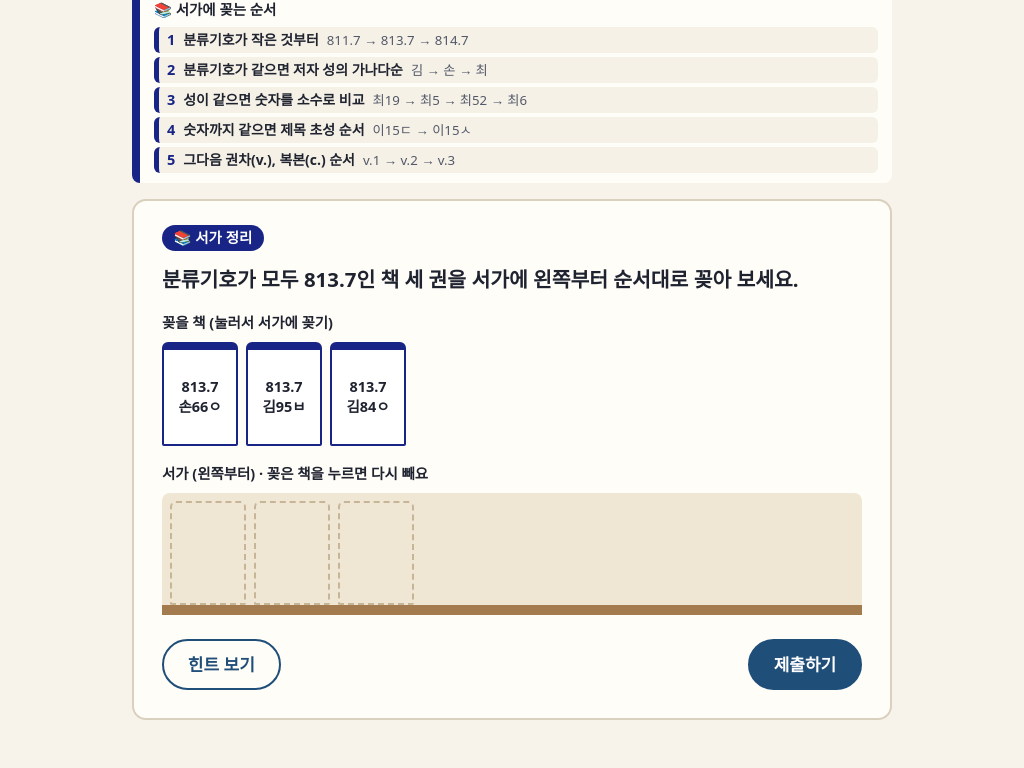
Scenario: 게임 4단계: 책 주소 완성하기 › 서가 정리에서 틀리면 내 순서와 정답 순서를 화살표로 보여 준다
This screenshot has width=1024, height=768.
(page scrolled)
Click the button named "813.7 손66ㅇ 꽂기".
click(200, 394)  # box [162, 342, 238, 446]
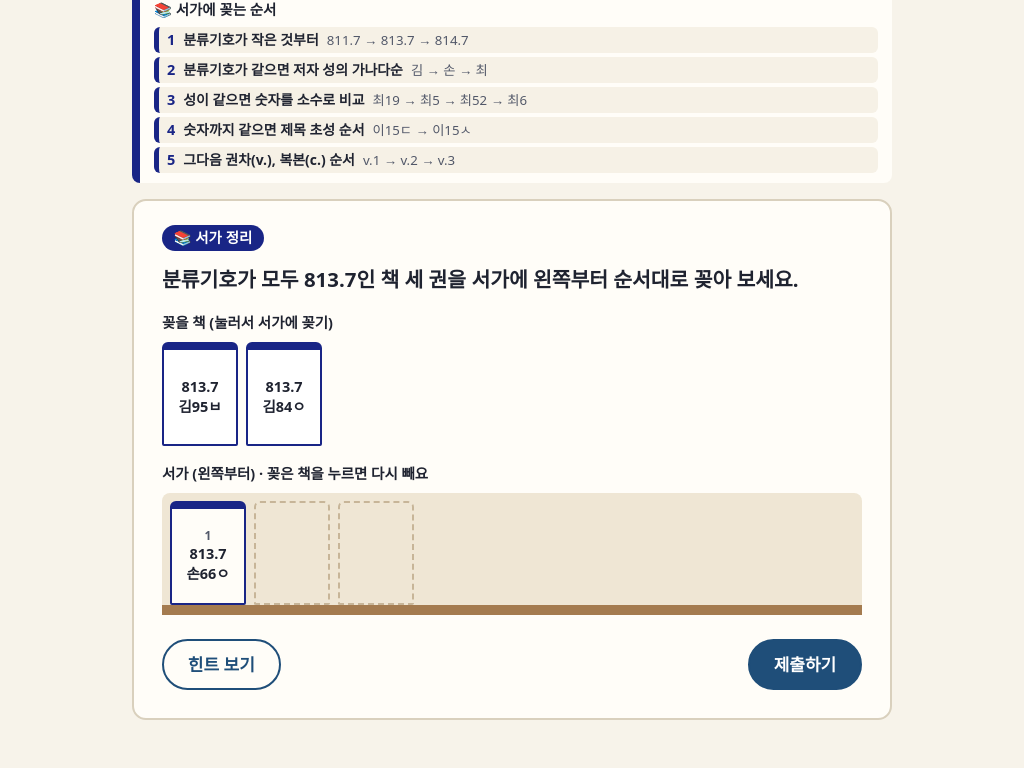
Click the button "813.7 김95ㅂ".
click(200, 394)  # box [162, 342, 238, 446]
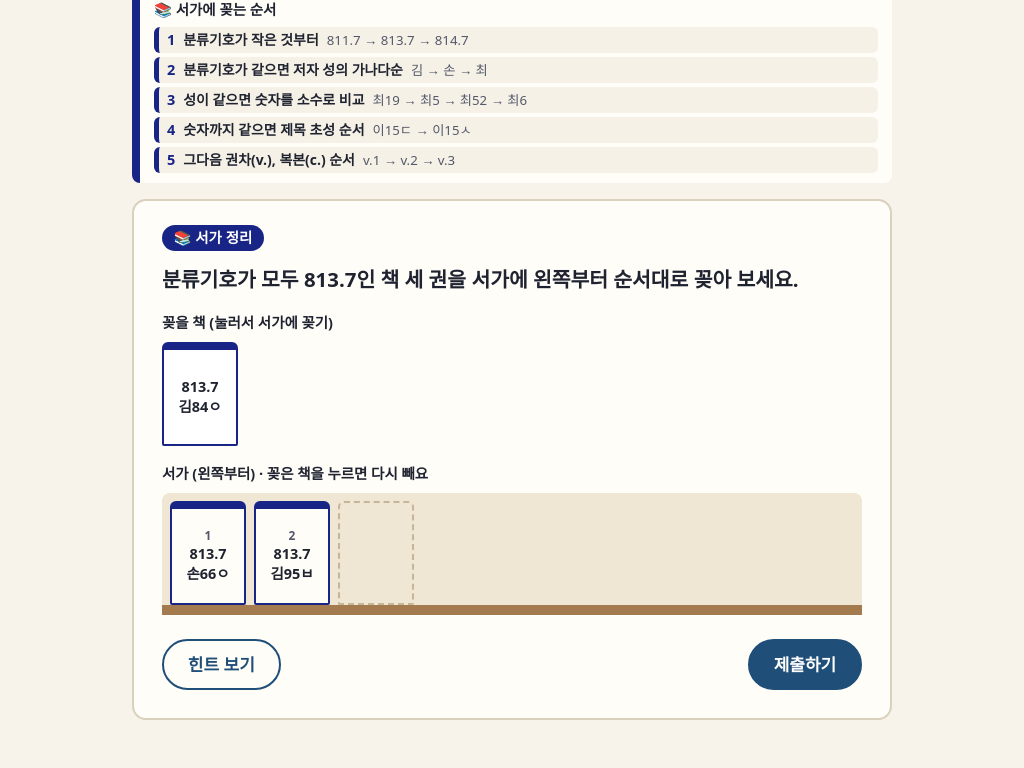
Click the button "813.7 김84ㅇ".
click(200, 394)  # box [162, 342, 238, 446]
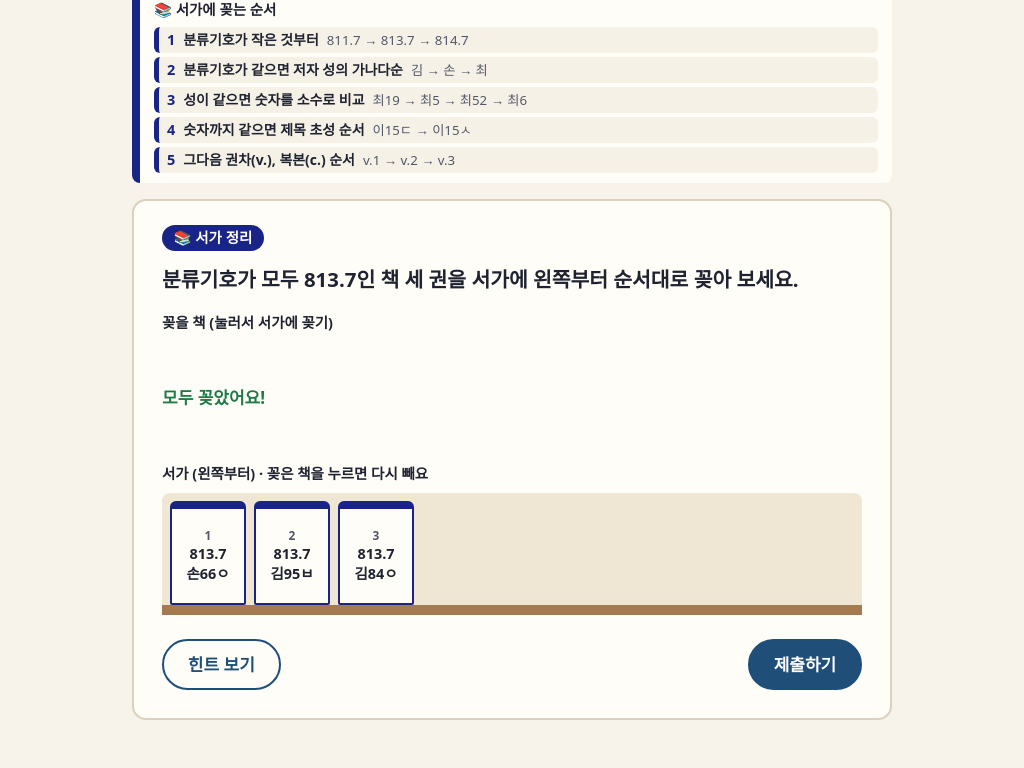
Click the button "제출하기".
click(805, 665)  # box [748, 639, 862, 690]
(page scrolled)
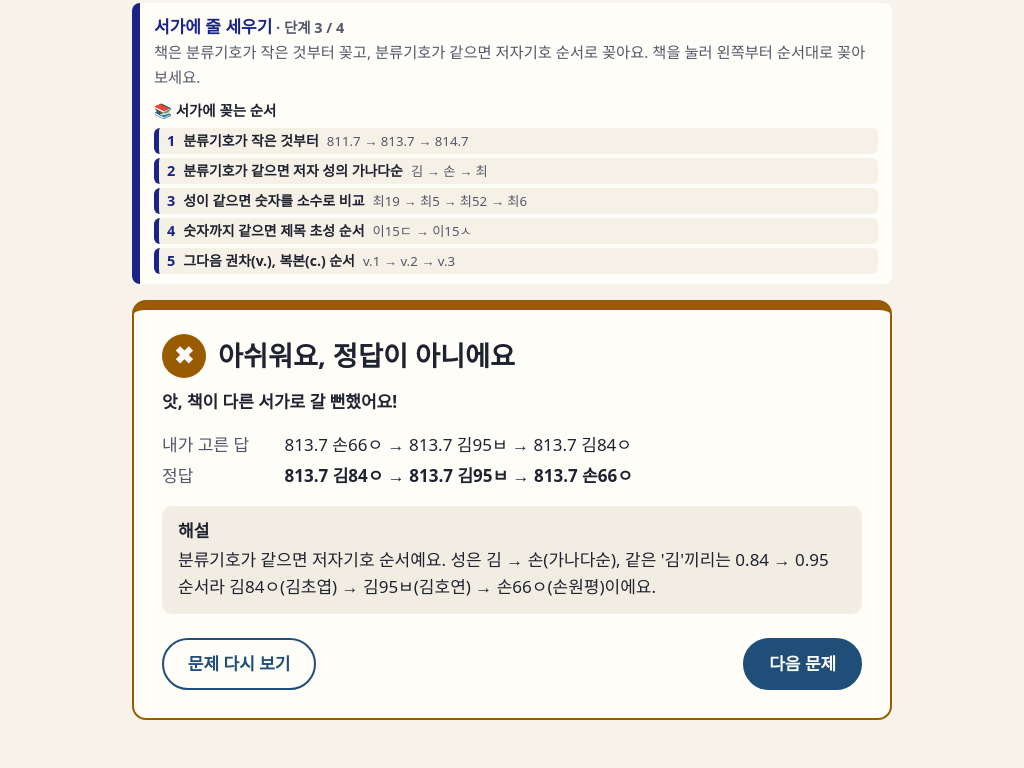
Now the heading "✖ 아쉬워요, 정답이 아니에요" is shown, box [162, 334, 515, 378]
Now the text "813.7 손66ㅇ → 813.7 김95ㅂ → 813.7 김84ㅇ" is shown, box [284, 431, 632, 458]
Now the text "813.7 김84ㅇ → 813.7 김95ㅂ → 813.7 손66ㅇ" is shown, box [284, 464, 633, 487]
